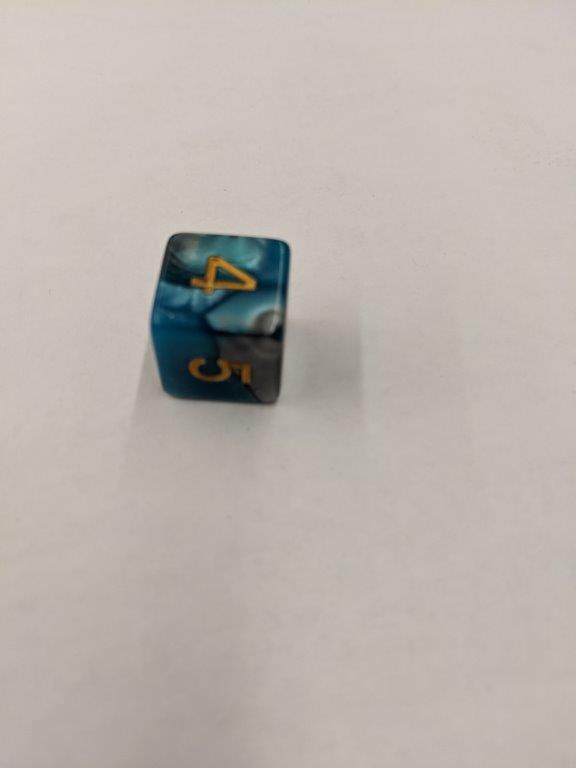d6-4: (147, 232, 290, 405)
